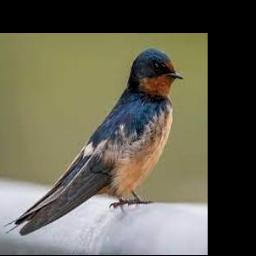Swallow: (4, 47, 182, 236)
